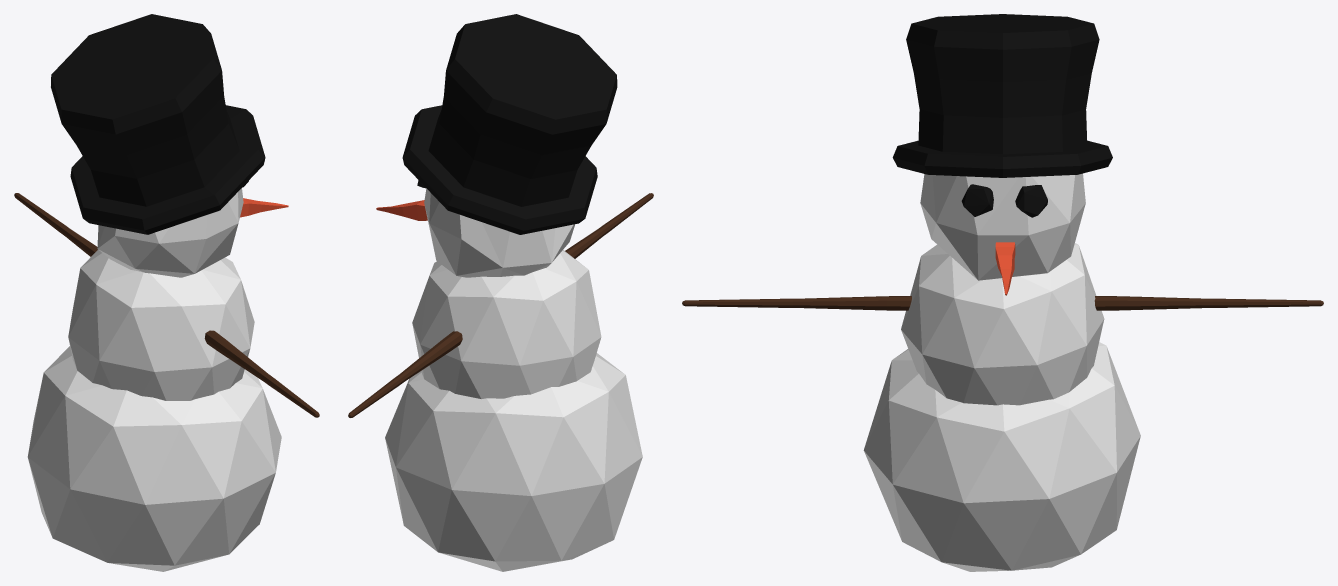
Rendered from snowman.fbx.
The picture shows the model from 3 angles, left to right: view 1: azimuth 30°, elevation 25°; view 2: azimuth 150°, elevation 25°; view 3: azimuth 270°, elevation 25°; orthographic projection. The views are drawn at different scales.
Parts seen in each view (by area): view 1: Cube.005; view 2: Cube.005; view 3: Cube.005.
Boxes of the visible parts, left/top/right/bottom form: Cube.005: left=14, top=14, right=319, bottom=571; Cube.005: left=348, top=14, right=653, bottom=571; Cube.005: left=682, top=14, right=1323, bottom=571.
Bounding box in the file's own units: 293 × 595 × 629.
